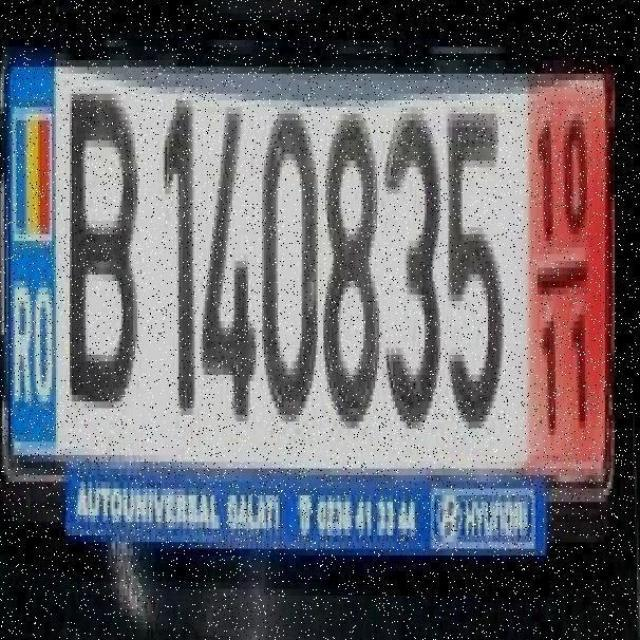license-plate: (8, 54, 640, 555)
